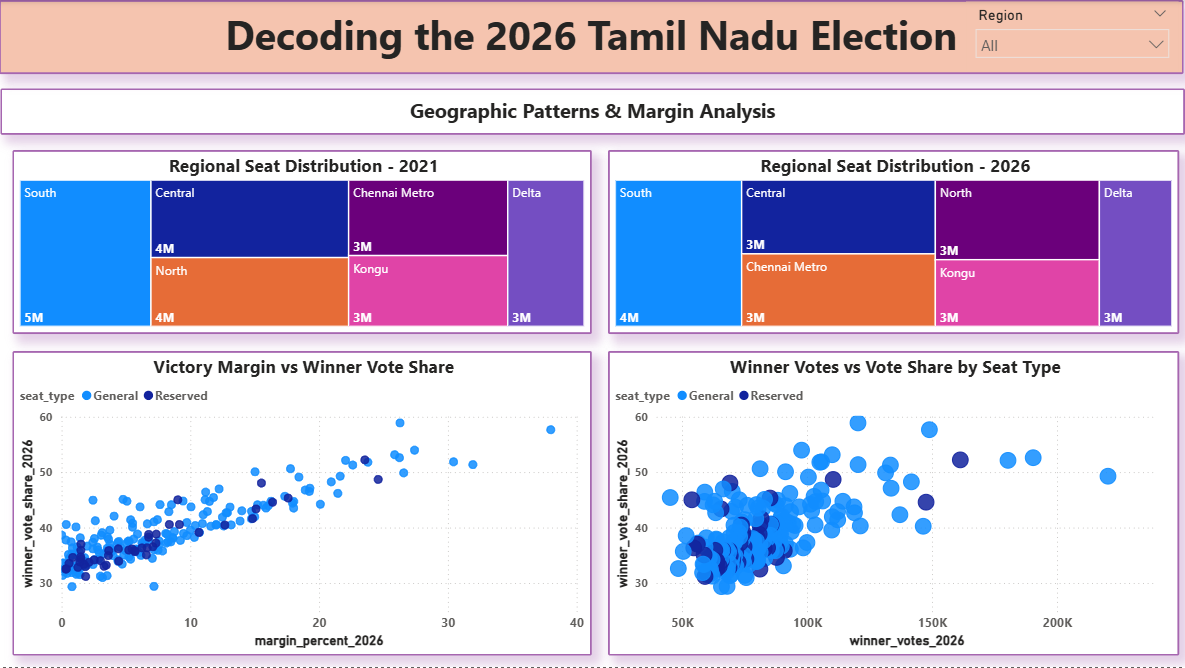

The page's visual inventory and layout, read from the dashboard file:
{"tool":"powerbi","page":{"name":"Page 4","canvas":[1280,720],"ordinal":3},"visuals":[{"type":"textbox","box":[1.7,95,1278.3,50],"z":0},{"type":"treemap","title":"Regional Seat Distribution - 2021","fields":{"Values":["Sum(winners_2021.winner_votes)"],"Group":["winners_2021.region"]},"box":[15,161.7,625,198.3],"z":1000},{"type":"scatterChart","title":"Victory Margin vs Winner Vote Share","fields":{"X":["merged_analysis.margin_percent_2026"],"Y":["merged_analysis.winner_vote_share_2026"],"Series":["merged_analysis.seat_type"]},"box":[15,378.3,625,328.3],"z":2000},{"type":"treemap","title":"Regional Seat Distribution - 2026","fields":{"Group":["winners_2026.region"],"Values":["Sum(winners_2026.winner_votes)"]},"box":[656.7,161.7,616.7,198.3],"z":3000},{"type":"scatterChart","title":"Winner Votes vs Vote Share by Seat Type","fields":{"X":["merged_analysis.winner_votes_2026"],"Y":["merged_analysis.winner_vote_share_2026"],"Series":["merged_analysis.seat_type"],"Size":["CountNonNull(merged_analysis.seat_type)"]},"box":[656.7,378.3,616.7,328.3],"z":4000},{"type":"textbox","box":[0,0,1278.3,80],"z":6000},{"type":"slicer","fields":{"Values":["constituency_master.region"]},"box":[1045,1.7,228.3,75],"z":7000}]}

Visuals, with their boxes in screenshot pixels (x1, y1, x2, y2), scaled from the page's 1280x720 canvas onto the 1185x668 screenshot:
textbox: x1=2, y1=88, x2=1184, y2=135
"Regional Seat Distribution - 2021" treemap: x1=14, y1=150, x2=592, y2=334
"Victory Margin vs Winner Vote Share" scatterChart: x1=14, y1=351, x2=592, y2=656
"Regional Seat Distribution - 2026" treemap: x1=608, y1=150, x2=1179, y2=334
"Winner Votes vs Vote Share by Seat Type" scatterChart: x1=608, y1=351, x2=1179, y2=656
textbox: x1=0, y1=0, x2=1183, y2=74
slicer - constituency_master.region: x1=967, y1=2, x2=1179, y2=71
